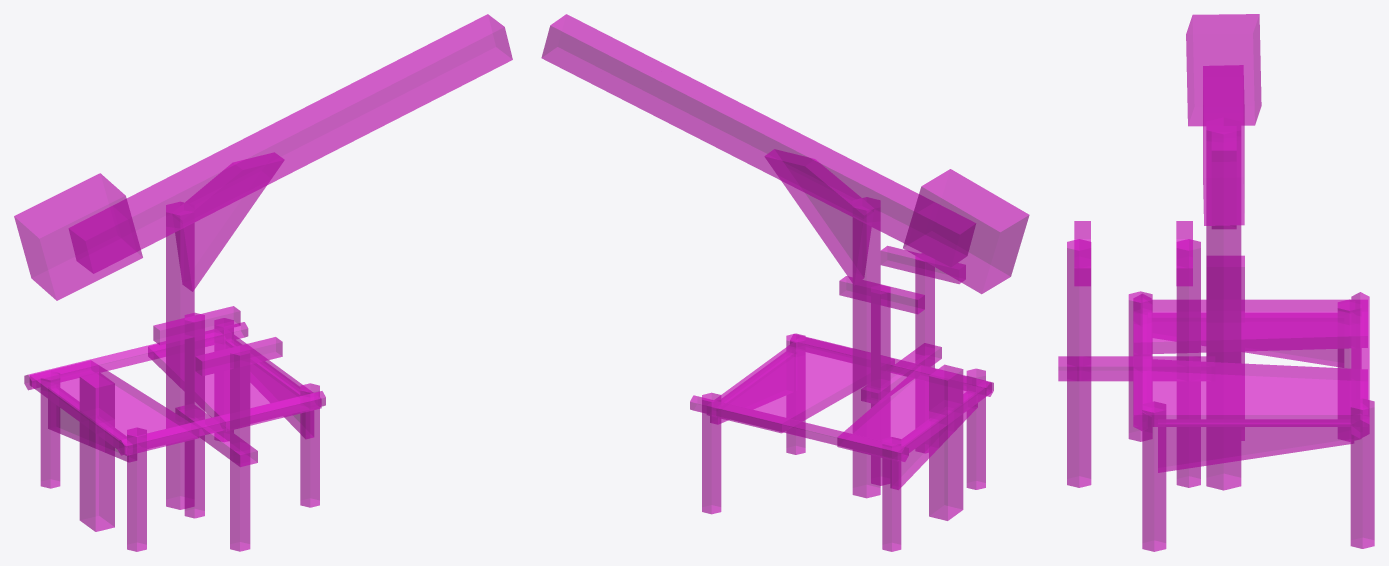
The model's file is SM_Prop_Crane_01_Collision.fbx.
3 renders of one model, left to right at view 1: azimuth 30°, elevation 25°; view 2: azimuth 150°, elevation 25°; view 3: azimuth 270°, elevation 25°, orthographic. The views are drawn at different scales.
Parts seen in each view (by area): view 1: SM_Prop_Crane_01_Collision; view 2: SM_Prop_Crane_01_Collision; view 3: SM_Prop_Crane_01_Collision.
Part boxes in pixels (x1,y1,x2,y2): SM_Prop_Crane_01_Collision: [14, 14, 512, 551]; SM_Prop_Crane_01_Collision: [541, 14, 1029, 551]; SM_Prop_Crane_01_Collision: [1058, 14, 1374, 551].
Size of the model in its own units: 1085 by 888 by 514.
